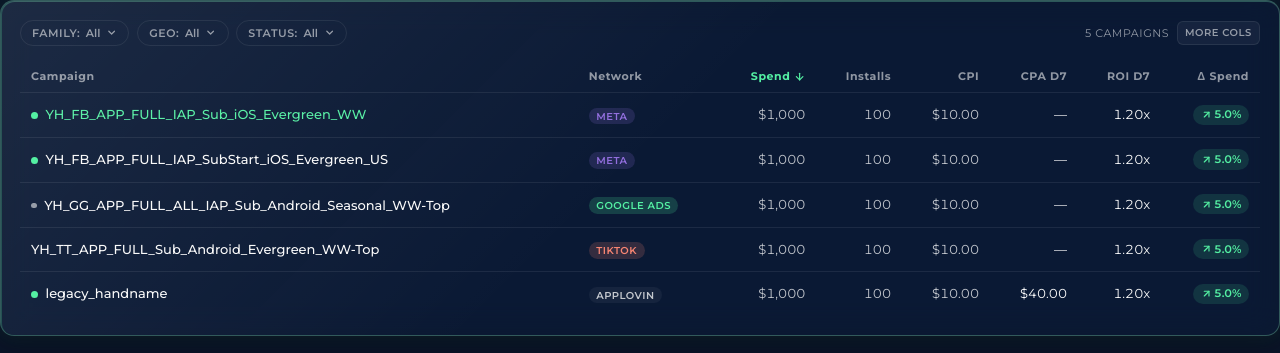
Test: CampaignsTable - WS2 enrichment + chip filters › Status=Paused filters to only paused campaigns
Click the button with test id "campaigns-filter-status-toggle": click(292, 33) [236,20,347,46]
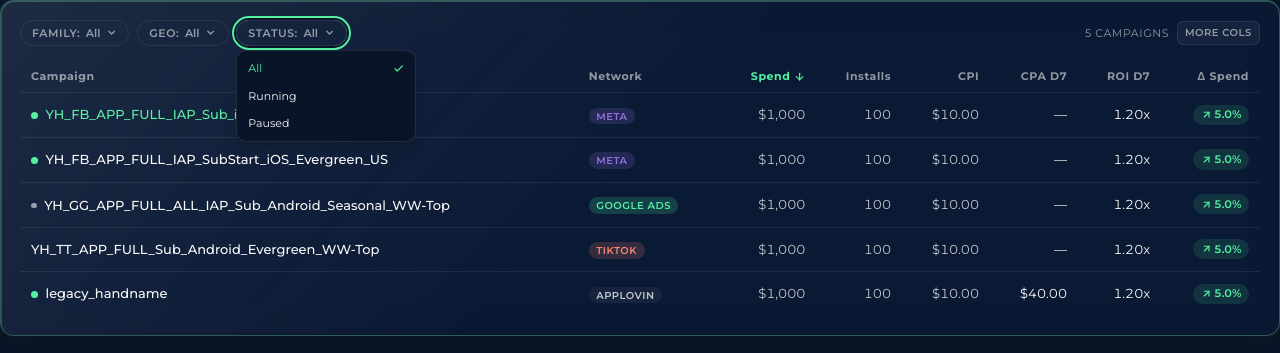
Click the option with test id "campaigns-filter-status-opt-paused": click(326, 124) [241,110,411,138]
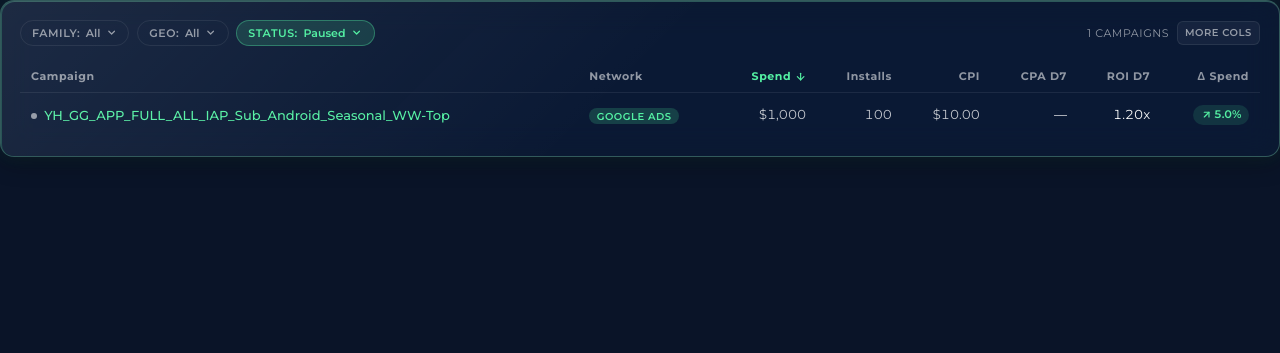
Expected: the row with test id "campaign-row-c3" is shown, [20,93,1260,137]
Expected: the row with test id "campaign-row-c1" is gone
